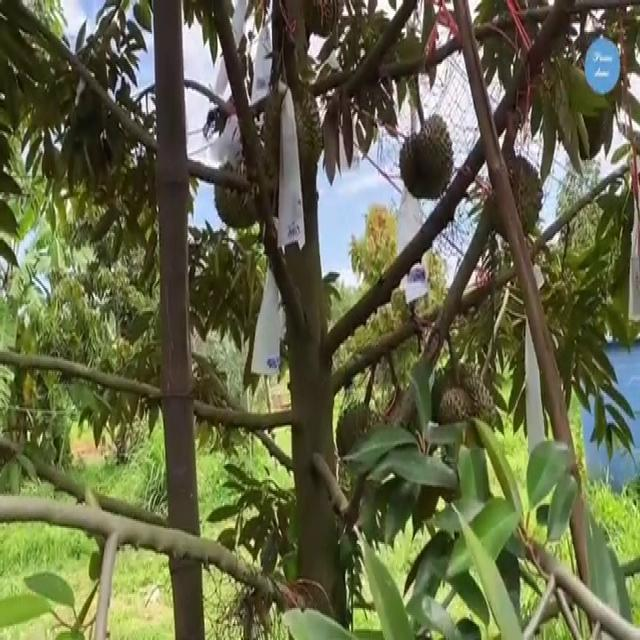durian: (206, 138, 283, 236), (329, 392, 403, 486), (482, 146, 545, 252), (397, 108, 458, 210), (279, 83, 330, 168), (450, 372, 501, 454), (437, 384, 475, 463)
